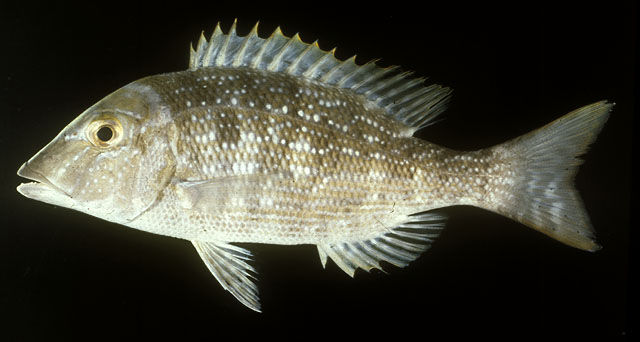fish: (16, 21, 616, 313)
